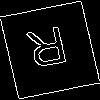R: (24, 25, 72, 78)
